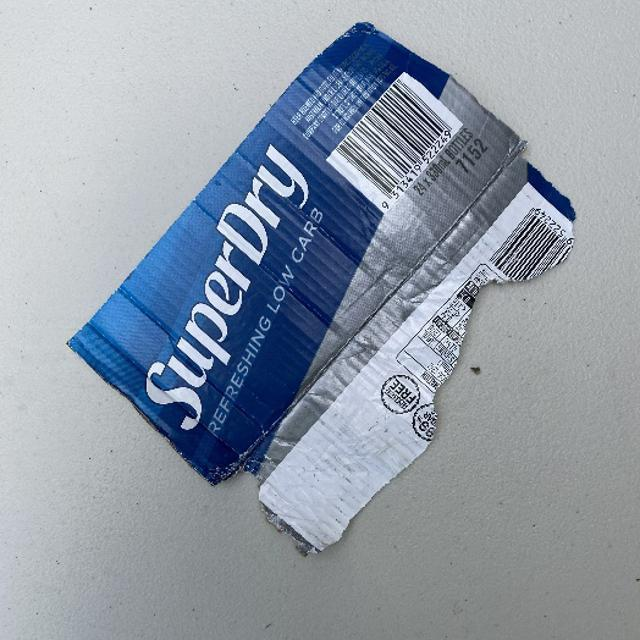Biodegradable: (66, 10, 610, 588)
